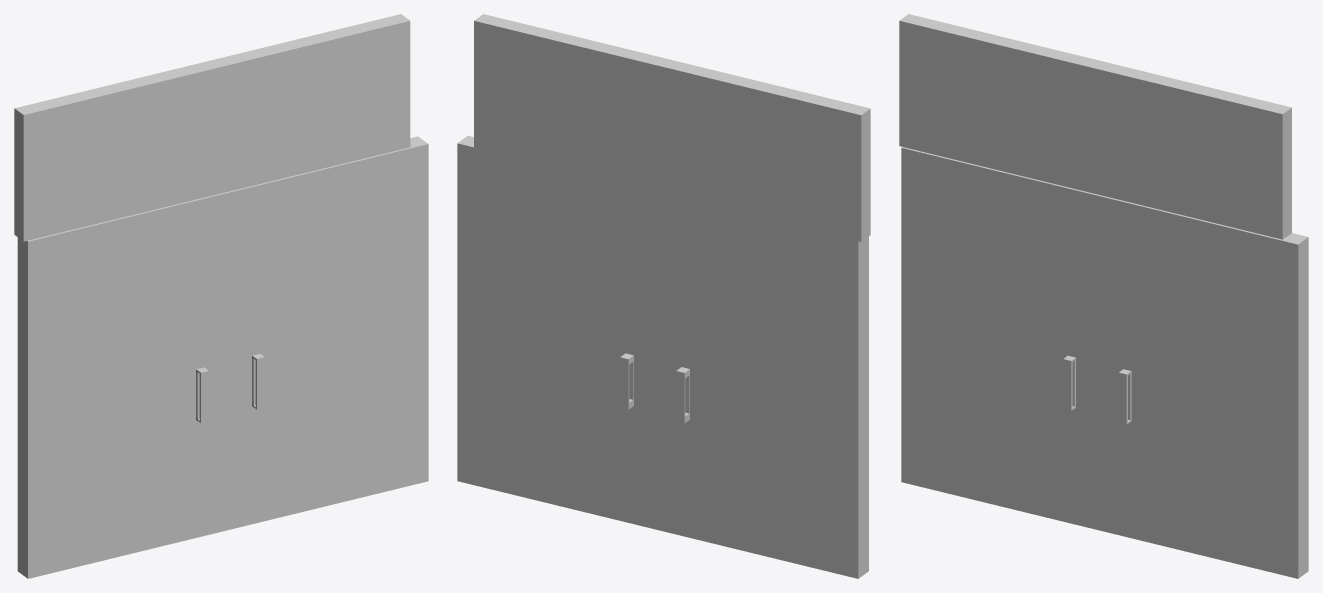
Rendered from Door_Type_2.fbx.
3 renders of one model, left to right at view 1: azimuth 30°, elevation 25°; view 2: azimuth 150°, elevation 25°; view 3: azimuth 330°, elevation 25°, orthographic.
Visible parts, largest first — view 1: Door_6; view 2: Door_6; view 3: Door_6.
Boxes of the visible parts, bbox=[...] form: Door_6: bbox=[14, 14, 428, 578]; Door_6: bbox=[457, 14, 870, 578]; Door_6: bbox=[899, 14, 1308, 578].
Bounding box in the file's own units: 2.5 × 2.75 × 0.2222.
1 material, 1 textured.
